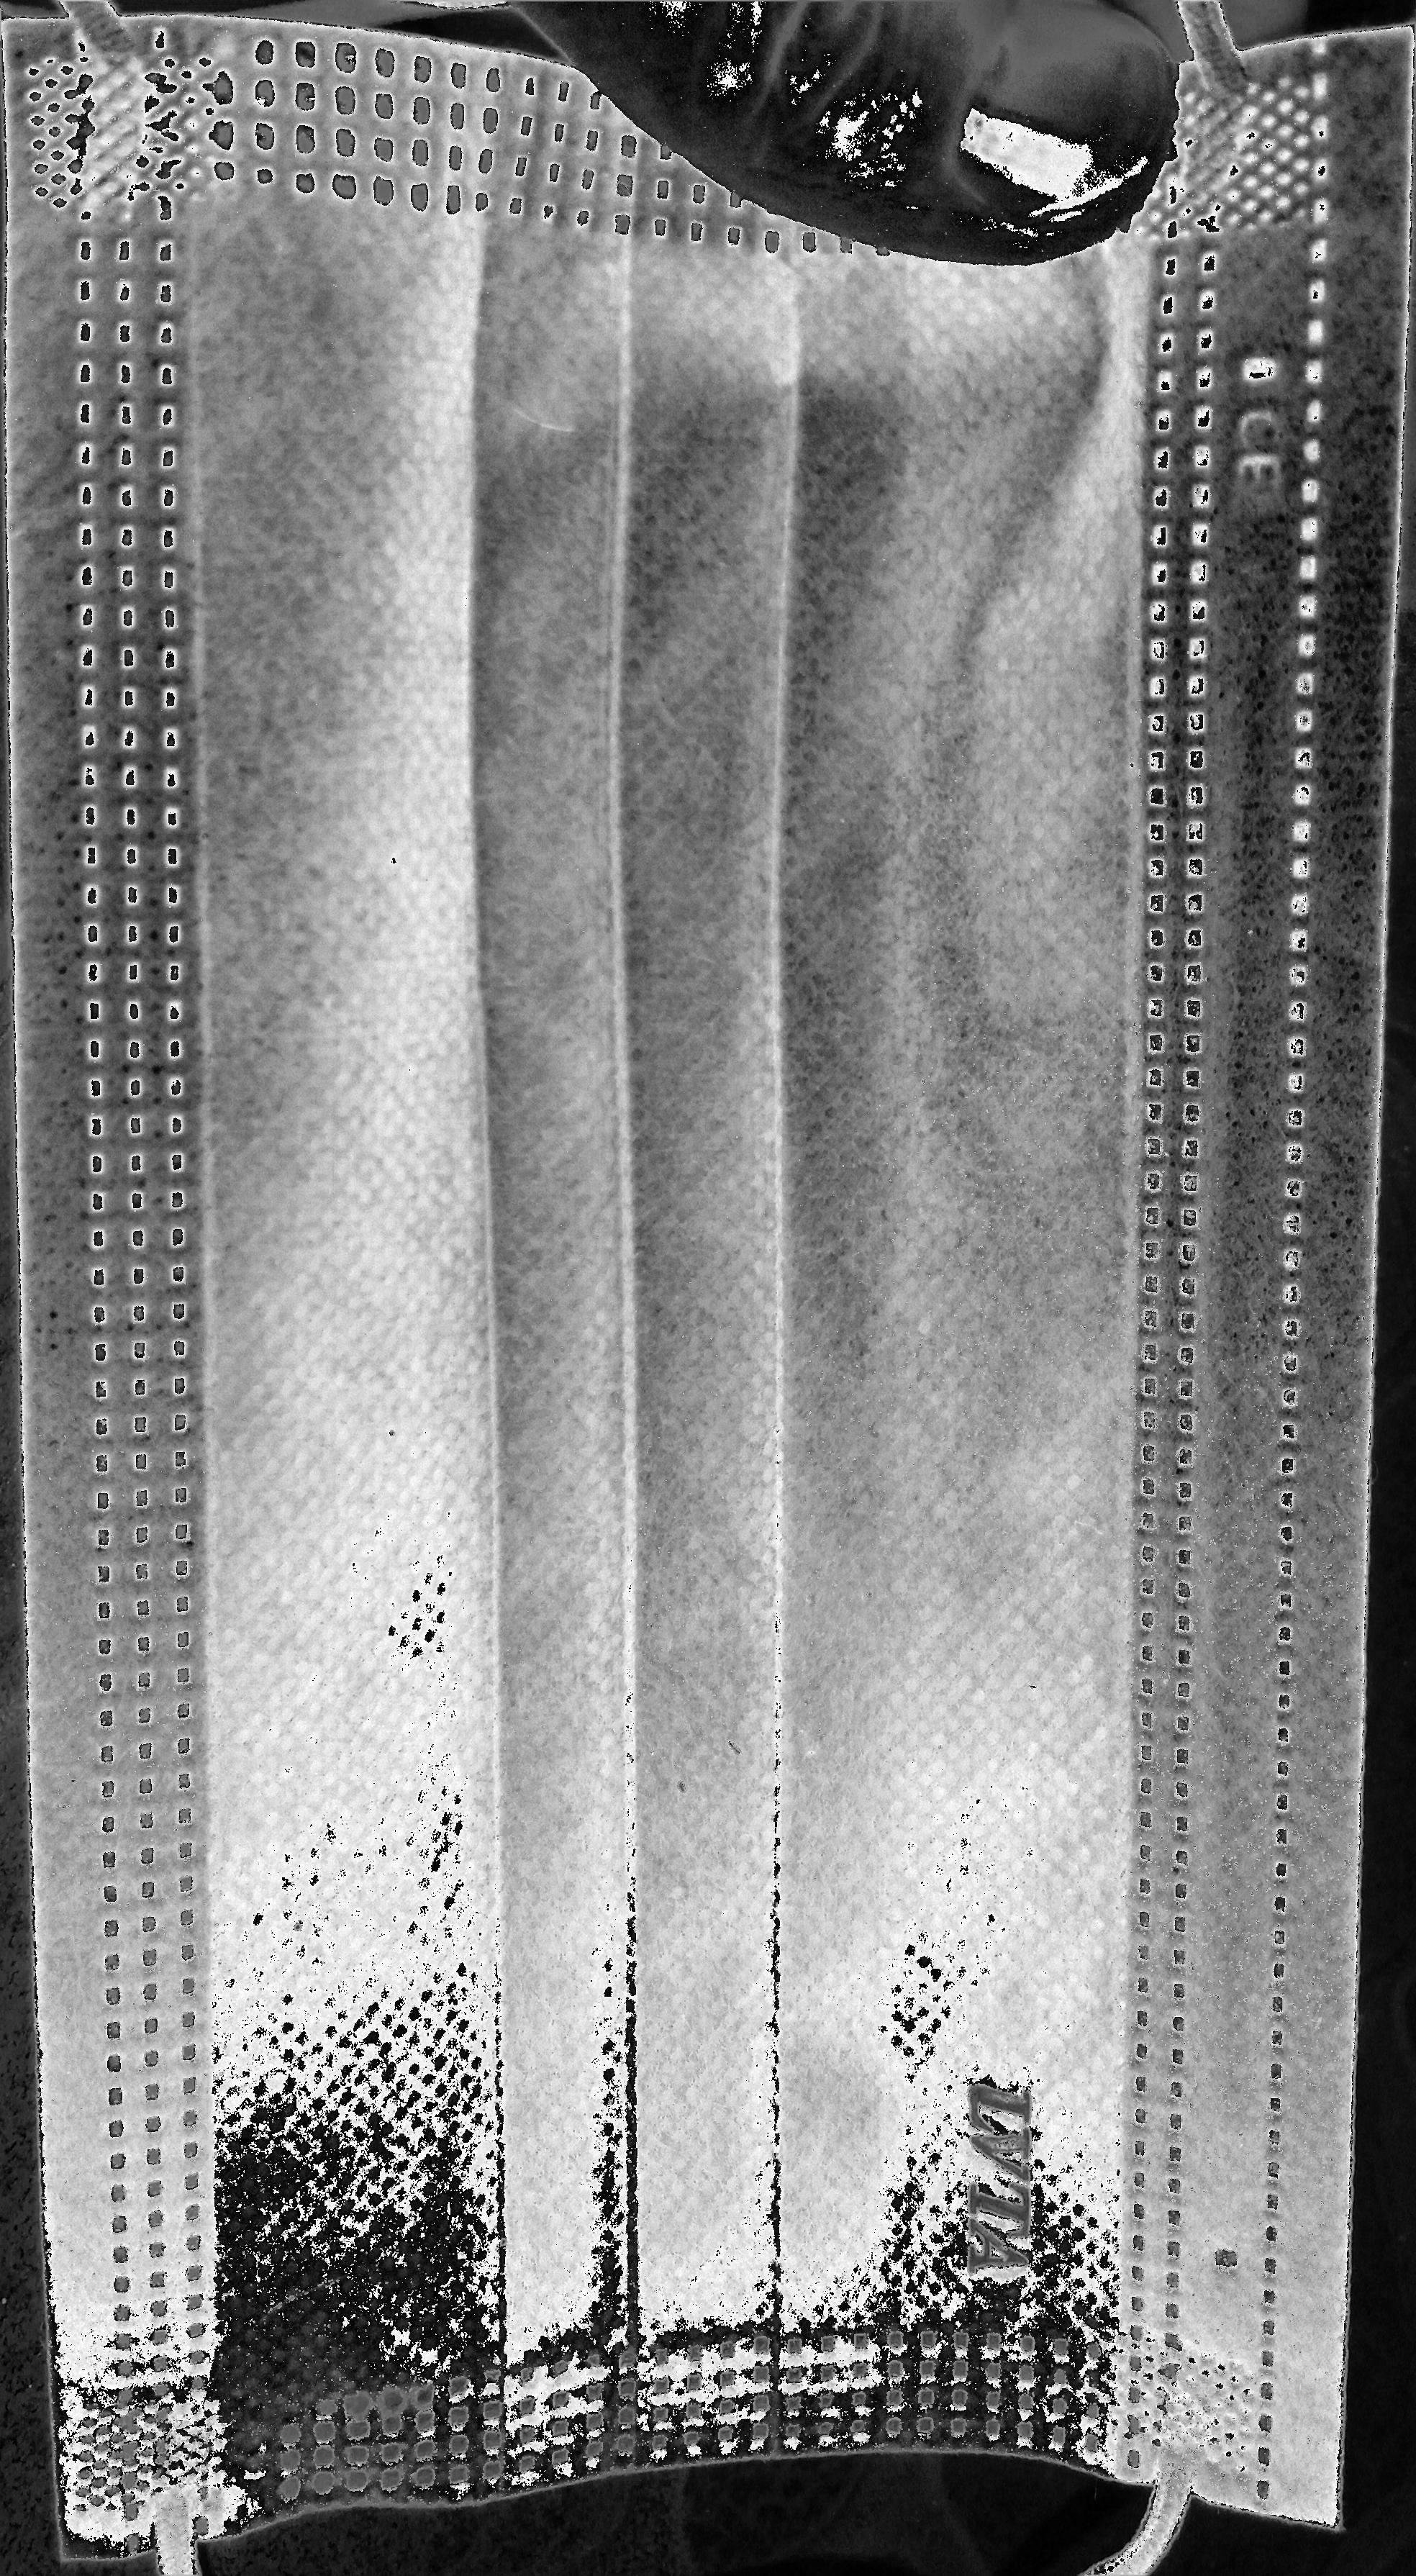High GSM: (232, 275, 1121, 2313)
Undefined Area: (504, 0, 1175, 261)
